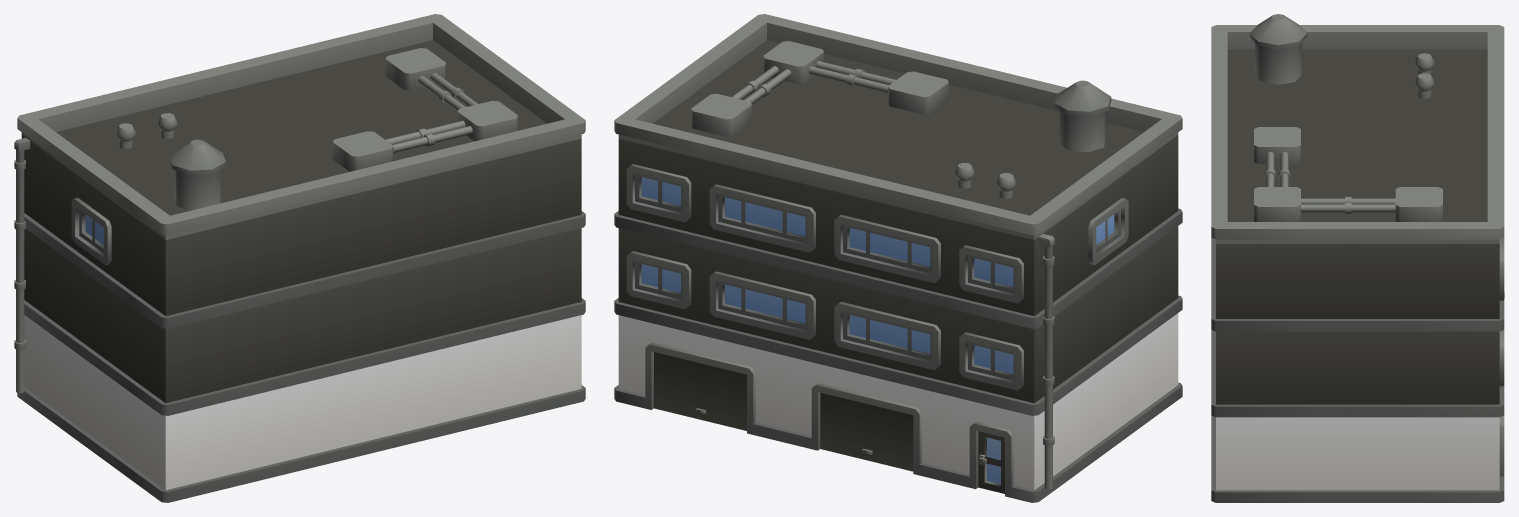
Rendered from ind-building-a.glb.
3 renders of one model, left to right at view 1: azimuth 30°, elevation 25°; view 2: azimuth 150°, elevation 25°; view 3: azimuth 270°, elevation 25°, orthographic.
Visible parts, largest first — view 1: building-a; view 2: building-a; view 3: building-a.
Part boxes in pixels (box(x1,y1,x2,y2)): building-a: box(14, 14, 585, 502); building-a: box(614, 14, 1182, 502); building-a: box(1211, 14, 1504, 502).
Bounding box in the file's own units: 2.08 × 1.47 × 1.24.
1 material, 1 textured.
